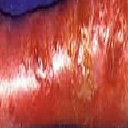Cellulitis: (33, 17, 128, 103)
